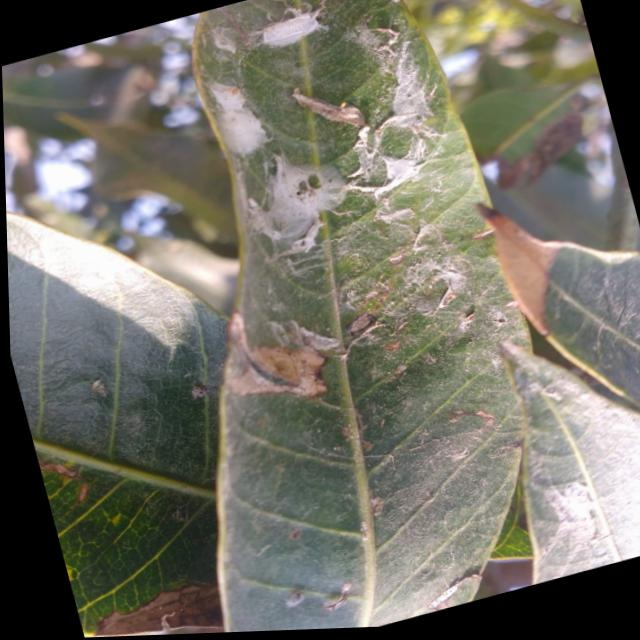Anthracnose: (201, 303, 335, 414)
Powdery Mildew: (317, 5, 453, 199), (239, 150, 362, 265), (198, 62, 267, 169), (248, 0, 338, 55)
